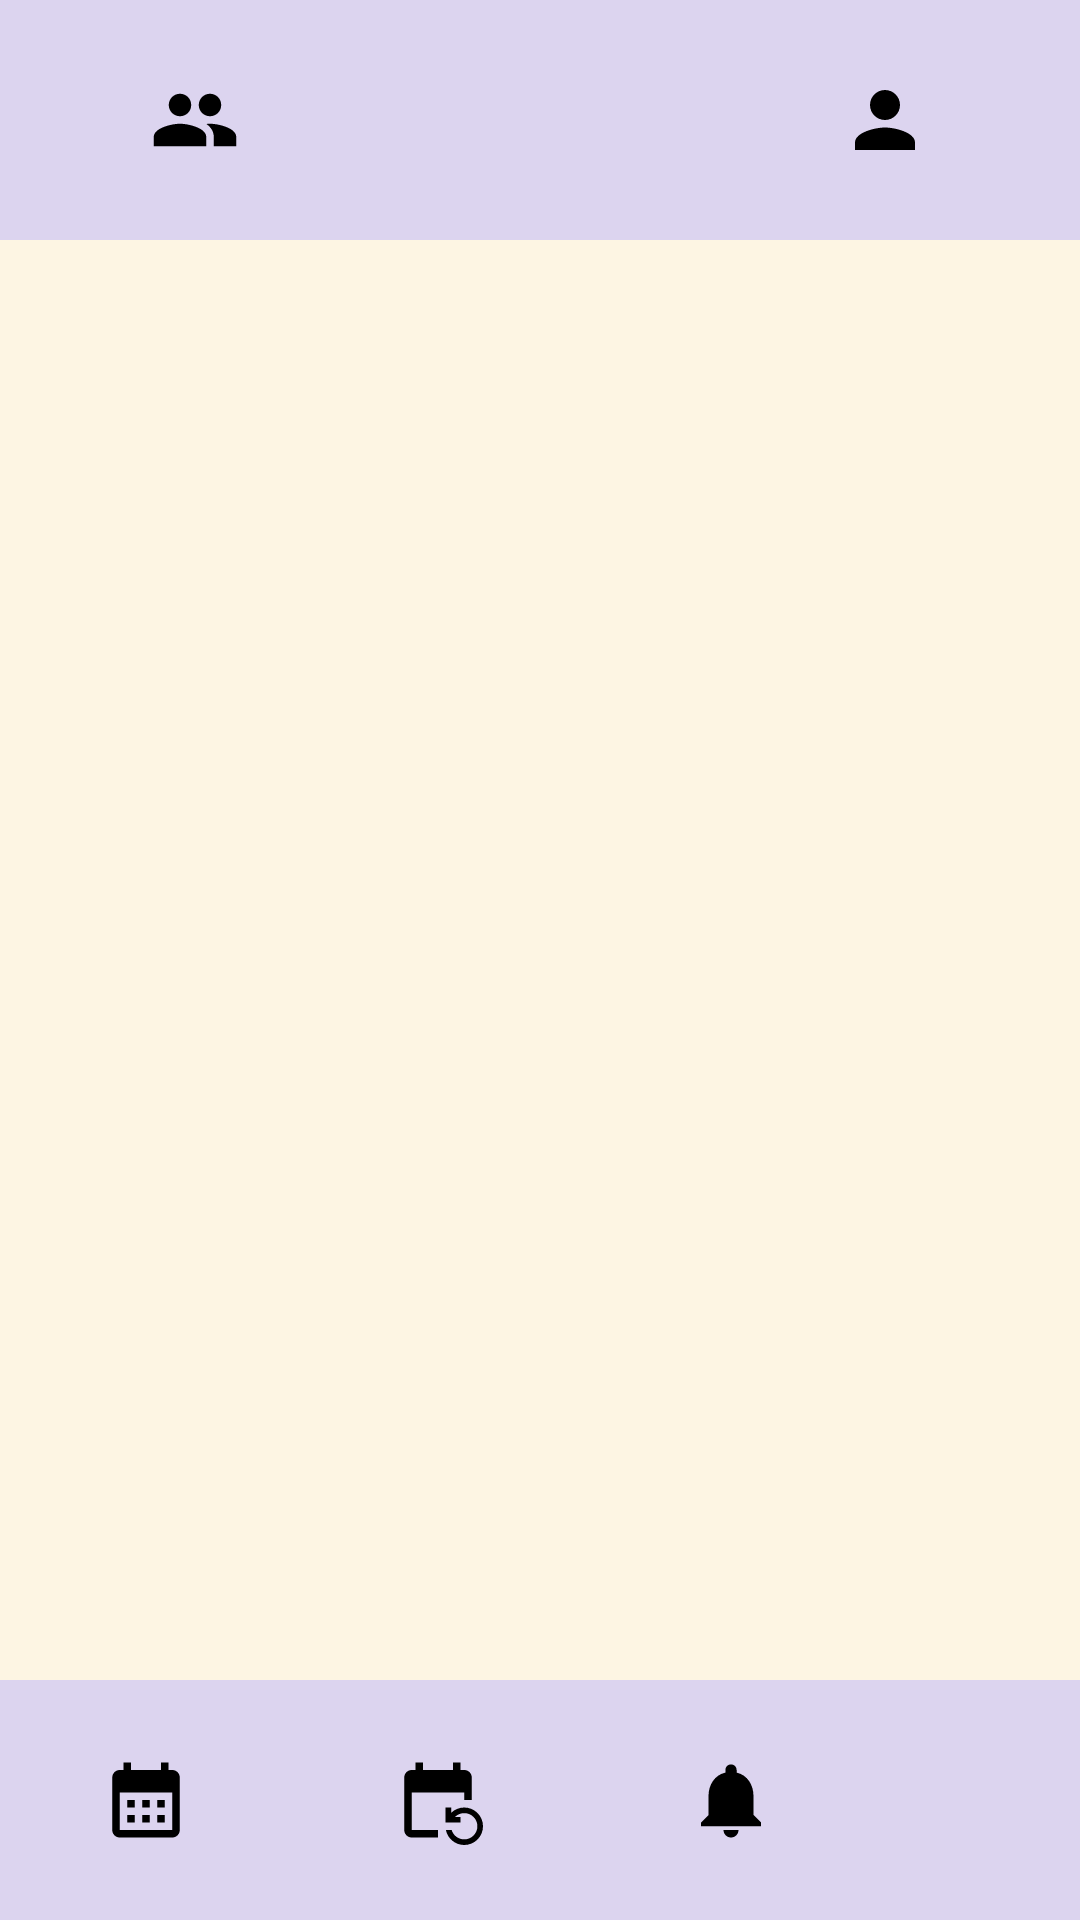

Where icons sit on this 1080x1920 app screen, as (x1, y1, x2, y2):
Calendario: (112, 1762, 180, 1838)
change: (404, 1762, 483, 1845)
group: (153, 93, 237, 147)
Notificaciones: (701, 1764, 761, 1838)
User: (855, 90, 915, 150)
